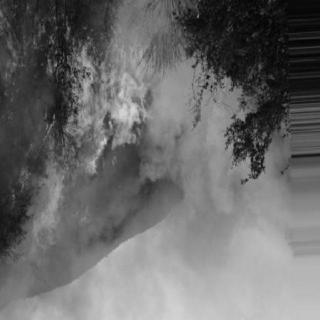Fire: (14, 7, 154, 279)
